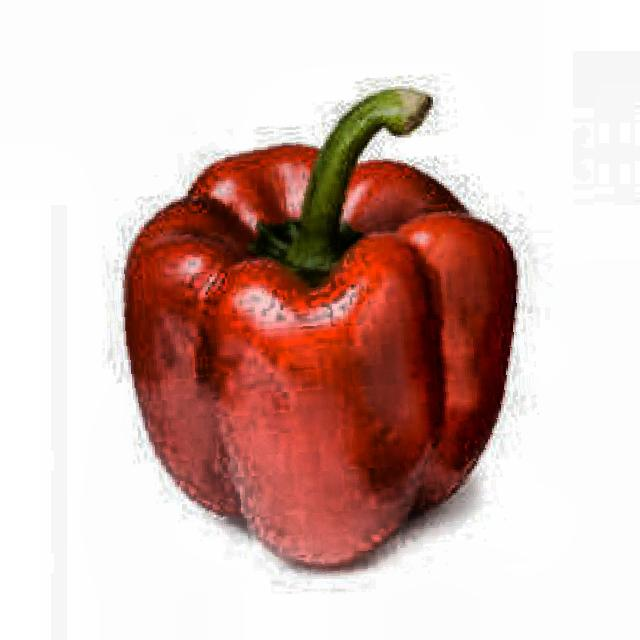capsicum: (102, 64, 545, 584)
